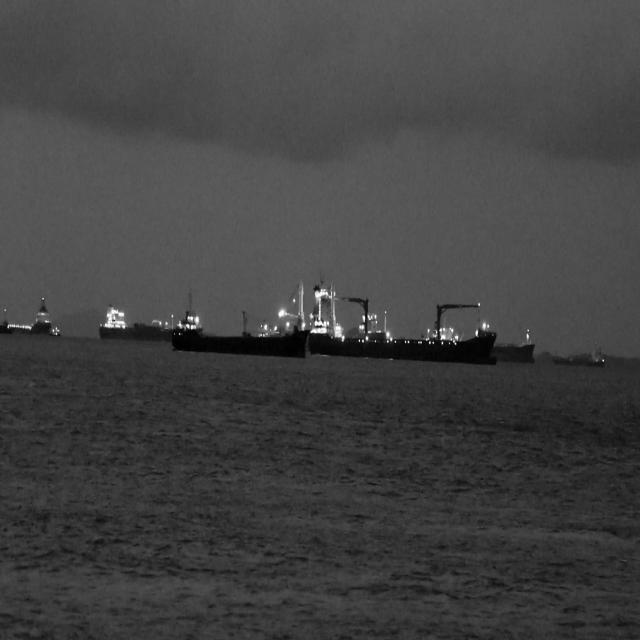ship: (306, 280, 496, 364), (170, 278, 307, 356), (97, 300, 170, 340), (1, 292, 51, 336), (551, 340, 607, 370), (492, 325, 534, 364), (49, 325, 62, 339)
